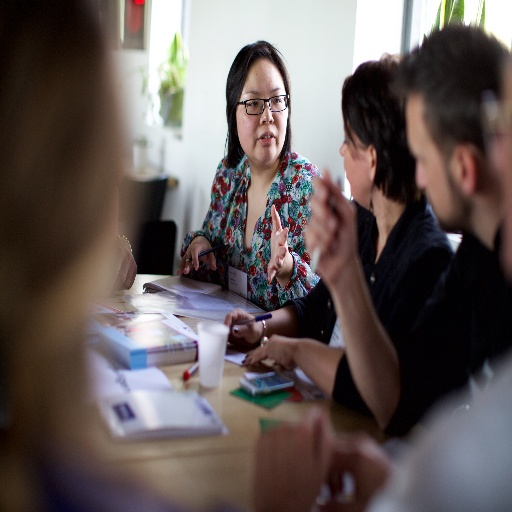hand: (252, 408, 332, 511), (300, 165, 358, 289), (322, 429, 392, 511), (240, 331, 298, 374), (108, 240, 141, 301), (266, 201, 289, 285), (174, 237, 218, 280), (223, 307, 264, 343)
